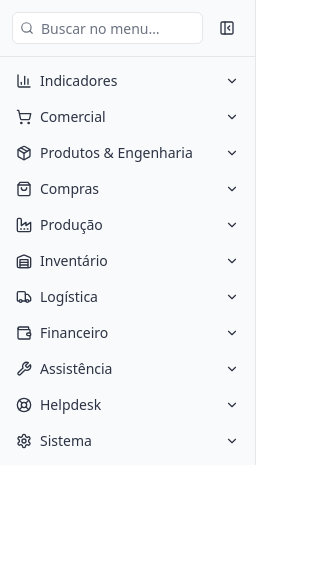
it: GlobalSidebar › renders coming-soon items as disabled (non-link)
The image size is (320, 564).
What coordinates should you click on to do the following:
click the button with test id "sidebar-group-assistencia"
I would click on:
 (128, 369)
Its box is [8, 353, 247, 385].
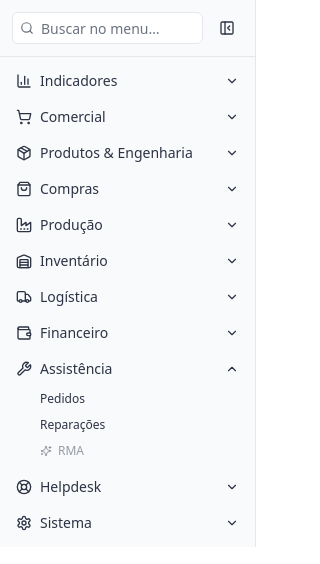
Check: the element with test id "sidebar-item-disabled-RMA" is shown, box [40, 442, 84, 459]
